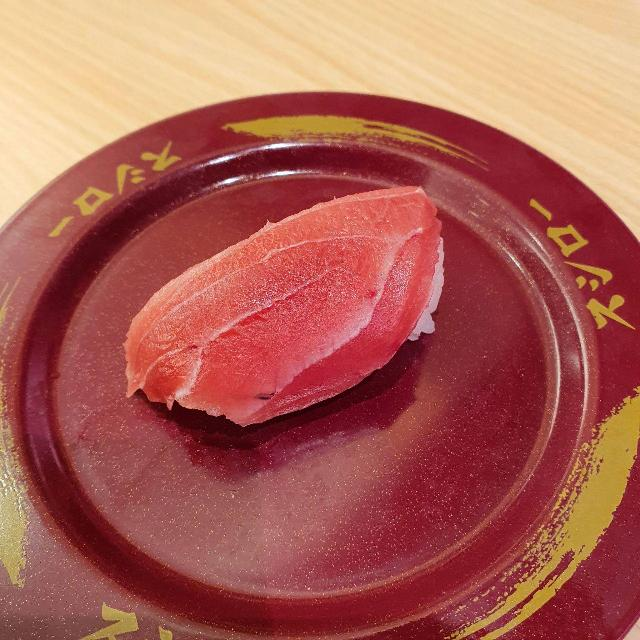janred: (25, 124, 612, 608)
